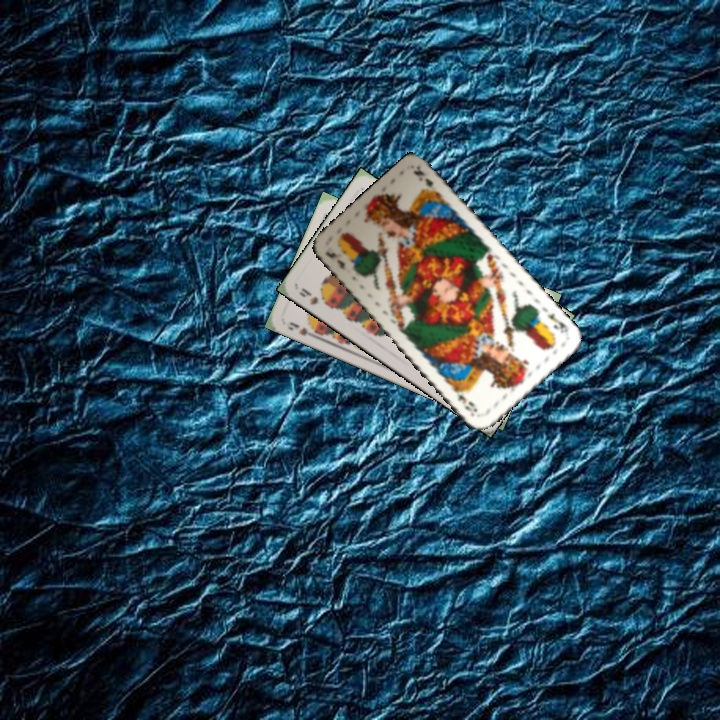EK: (543, 309, 571, 336), (321, 247, 348, 273)
S9: (294, 284, 332, 309), (283, 318, 321, 341)
